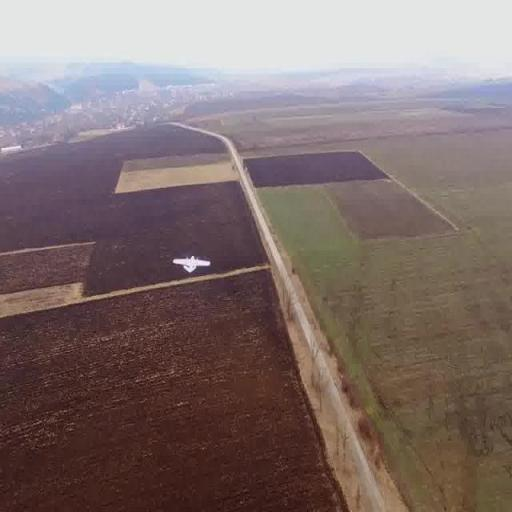uav: (168, 248, 212, 281)
